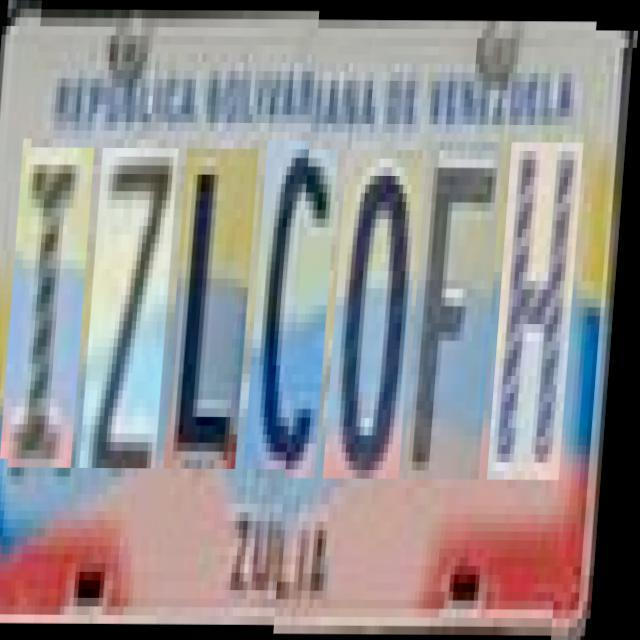C: (250, 140, 342, 469)
F: (411, 132, 506, 470)
H: (495, 132, 586, 470)
I: (7, 148, 96, 468)
L: (170, 148, 260, 468)
O: (331, 140, 426, 470)
Z: (86, 148, 181, 468)
